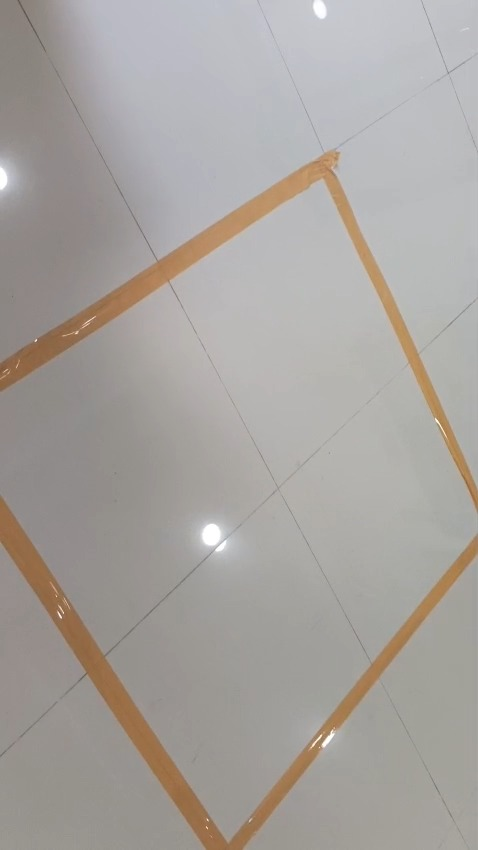floor marking: (0, 151, 477, 505), (2, 498, 477, 849)
